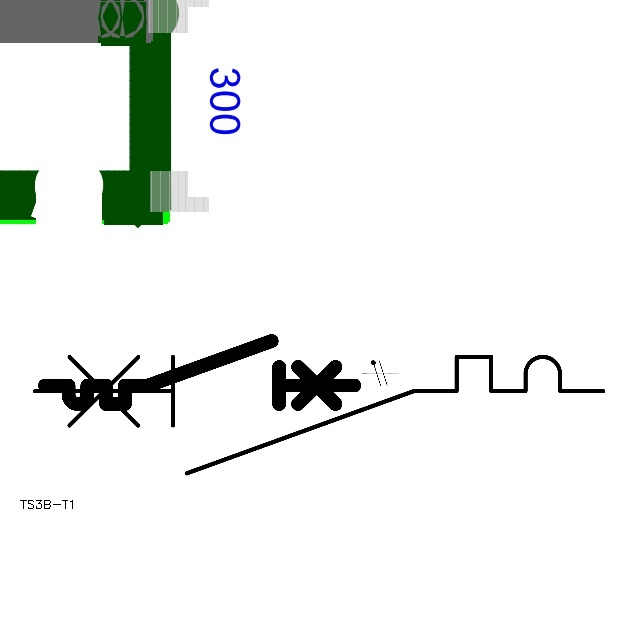interruptor_termomagnetico: (20, 342, 618, 488), (37, 333, 362, 412)
